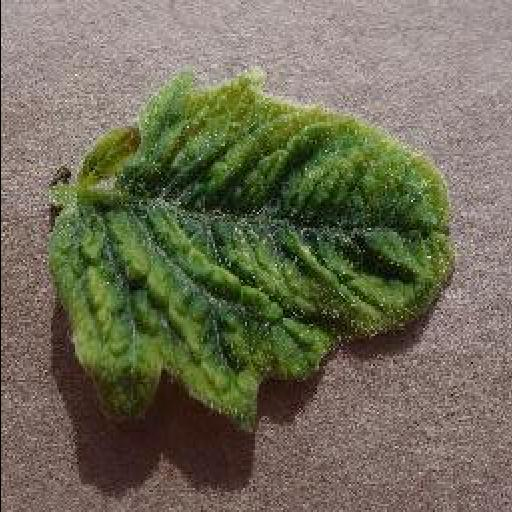disease_tomato: (47, 65, 457, 423)
